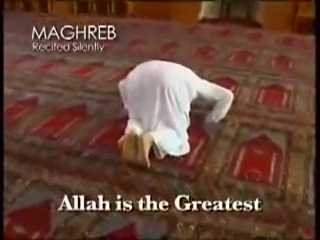sujud: (116, 61, 238, 172)
